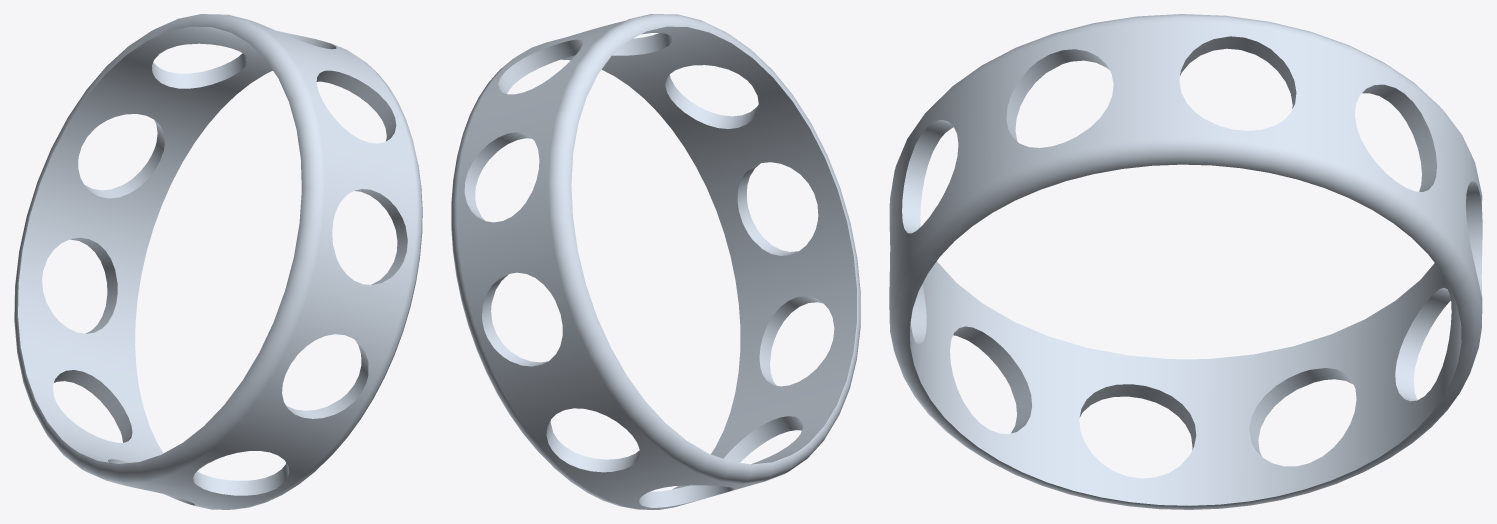
Rendered from RB-008_viewer.glb.
3 renders of one model, left to right at view 1: azimuth 30°, elevation 25°; view 2: azimuth 150°, elevation 25°; view 3: azimuth 270°, elevation 25°, orthographic. The views are drawn at different scales.
Parts seen in each view (by area): view 1: basebody_imported1; view 2: basebody_imported1; view 3: basebody_imported1.
Part boxes in pixels (x1=…): basebody_imported1: x1=14, y1=14, x2=422, y2=509; basebody_imported1: x1=451, y1=14, x2=860, y2=509; basebody_imported1: x1=889, y1=14, x2=1482, y2=509.
Bounding box in the file's own units: 0.00617 × 0.00881 × 0.00872.
